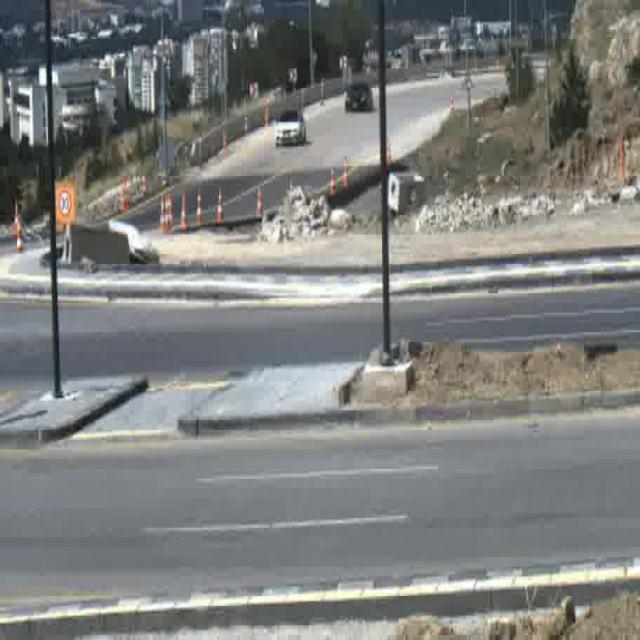Car: (274, 107, 306, 147), (346, 80, 372, 112)
